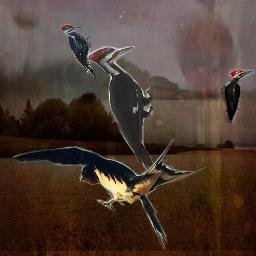Swallow: (9, 137, 225, 250)
Woodpecker: (83, 46, 153, 182), (60, 24, 95, 78), (221, 69, 255, 123)
